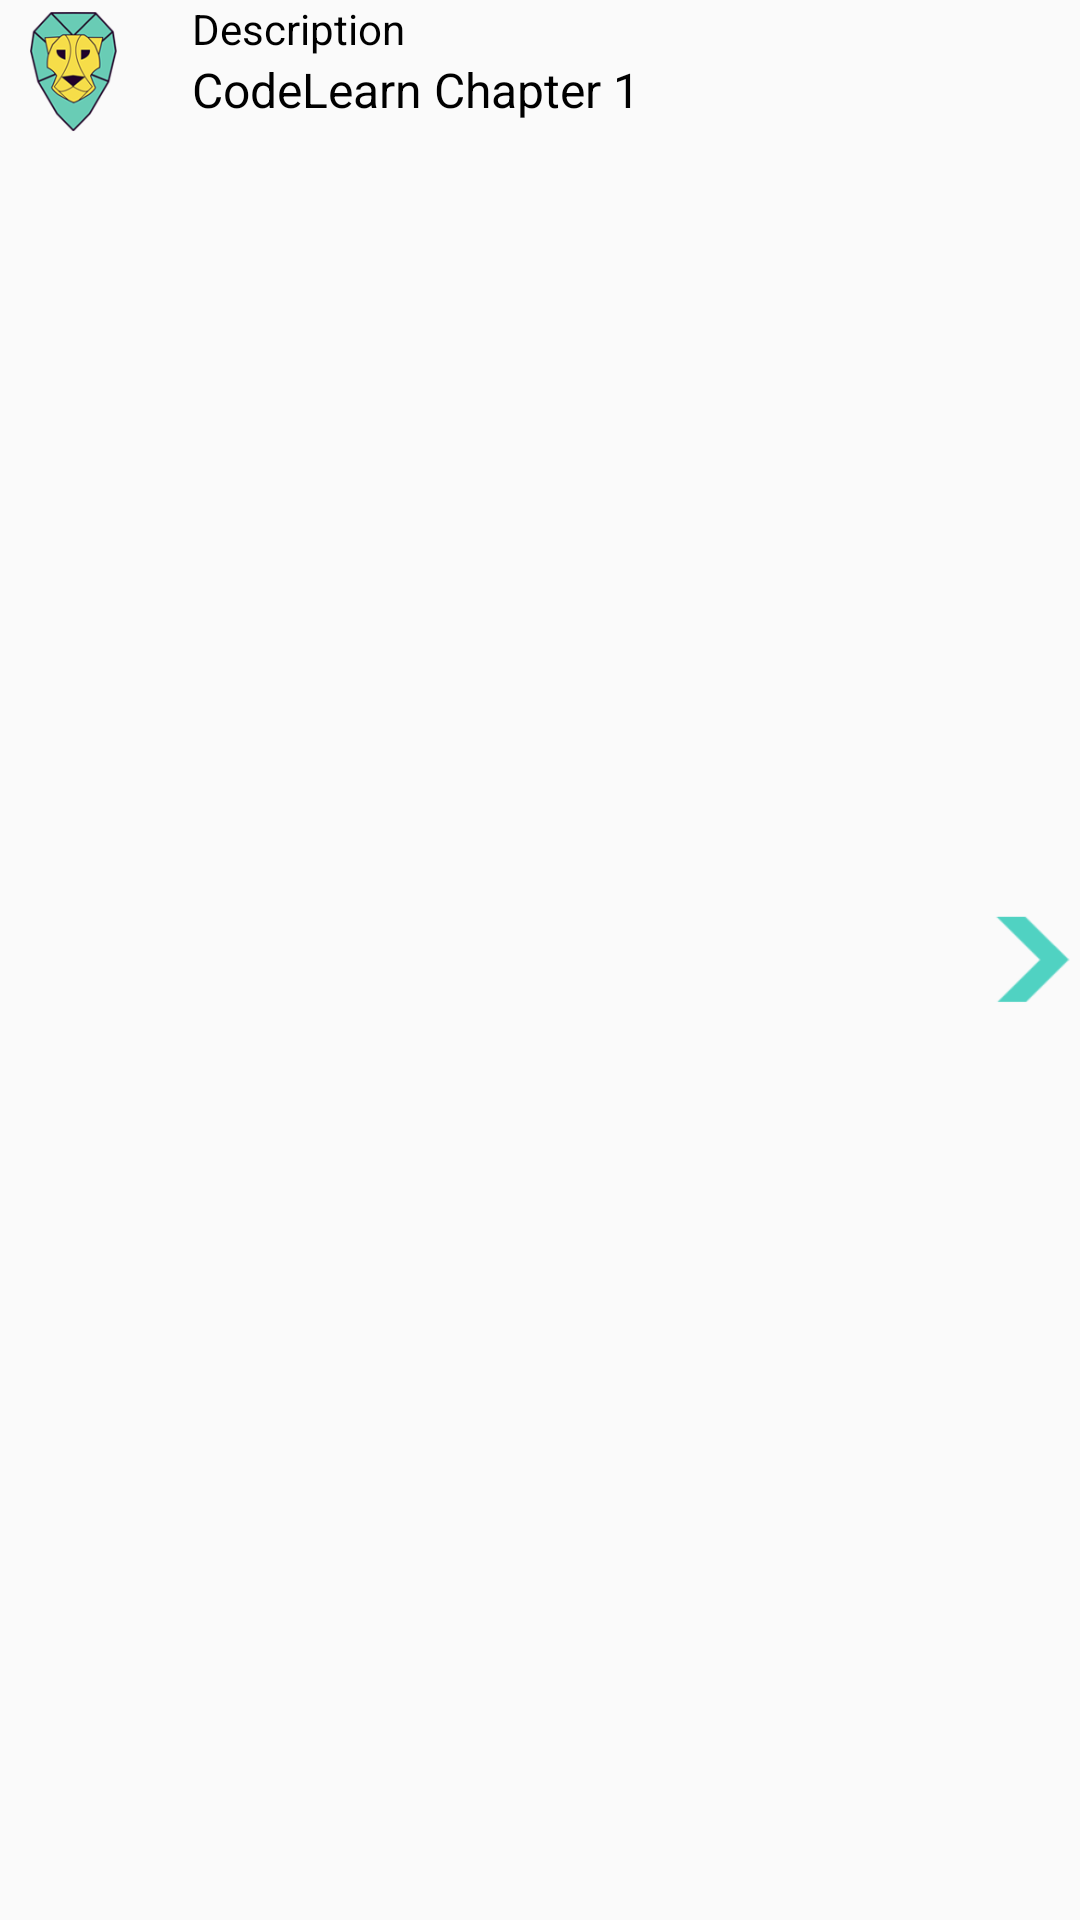

Icons on this 1080 x 1920 Android screen, each with the point to tap as [x,y]:
arrow: [1032,959]
